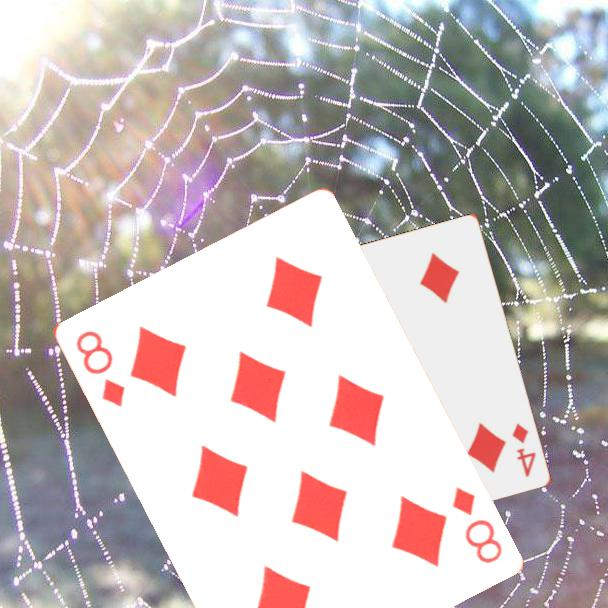d04: (509, 420, 539, 480)
d08: (448, 482, 505, 567), (71, 326, 127, 410)
